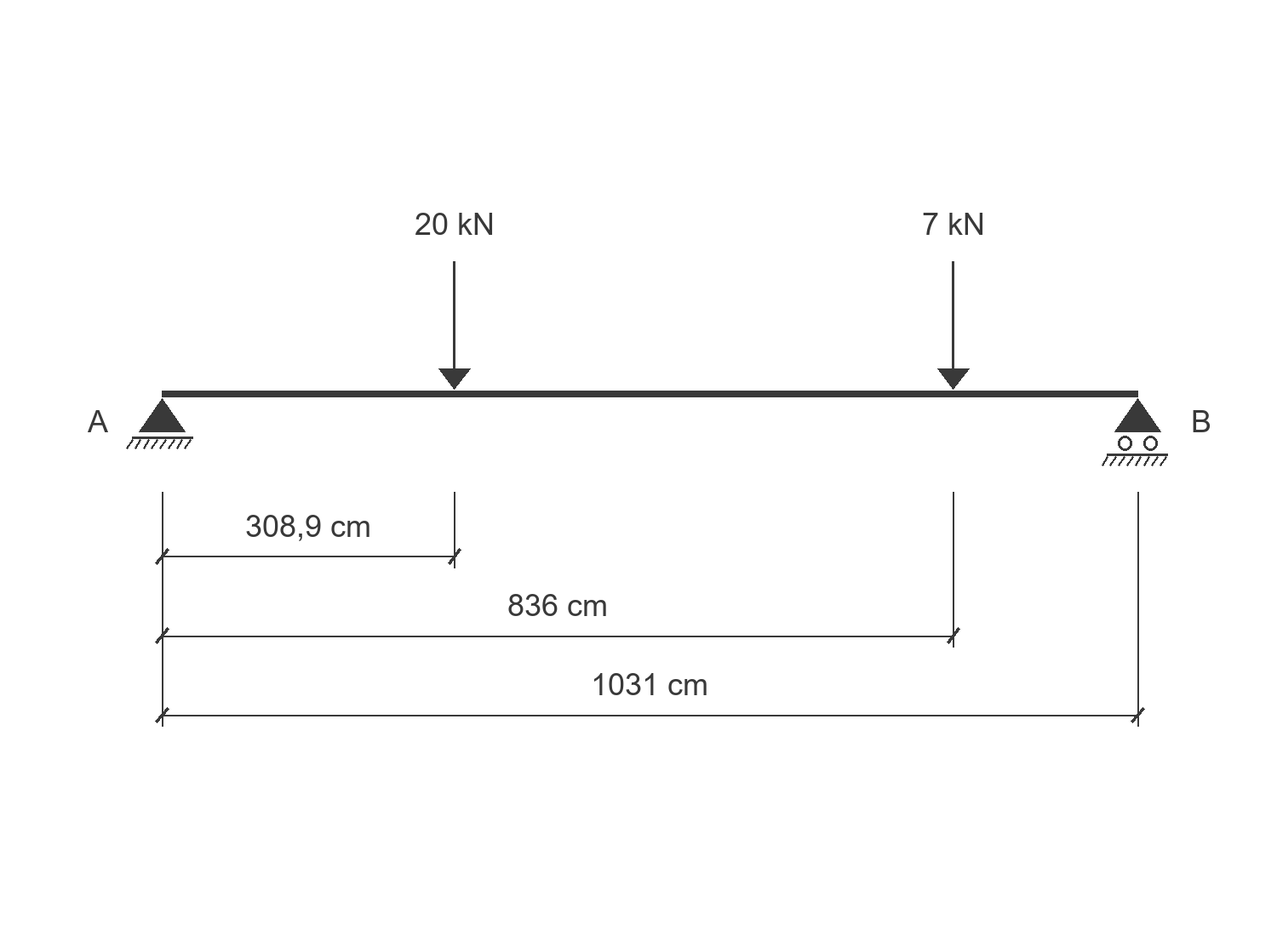pin_support: (126, 398, 193, 449)
point_load: (438, 261, 471, 390), (937, 261, 970, 390)
roller_support: (1102, 398, 1168, 466)
